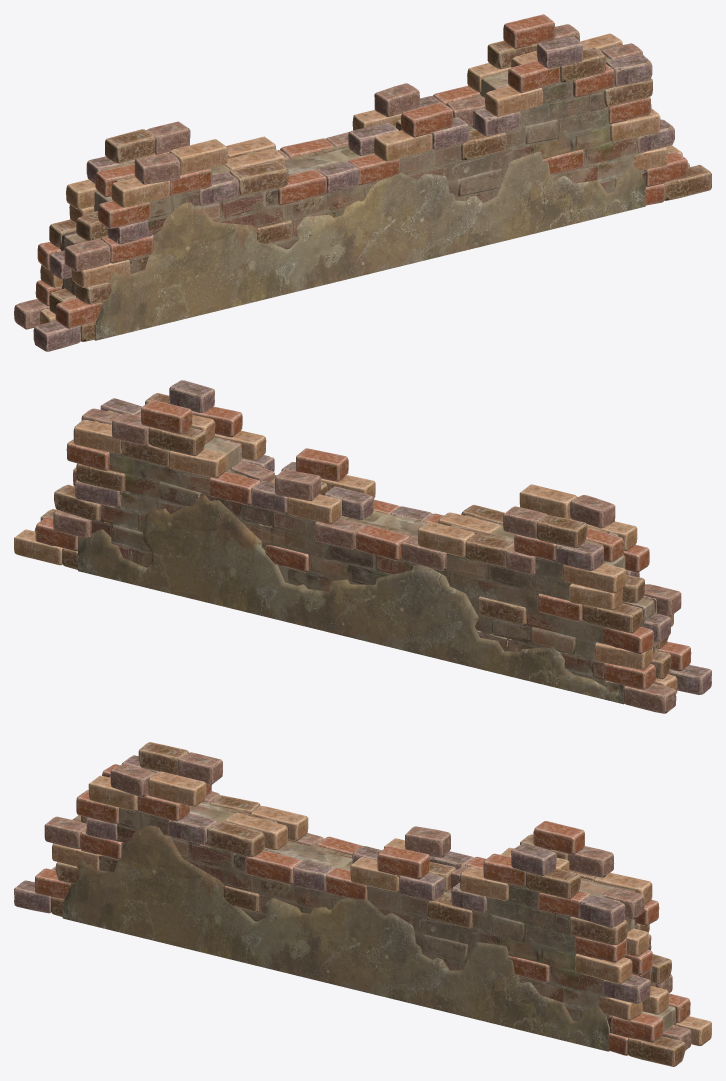
3 views of the same model, one above another, from view 1: azimuth 30°, elevation 25°; view 2: azimuth 150°, elevation 25°; view 3: azimuth 330°, elevation 25° (orthographic).
Visible parts, largest first — view 1: SM_Human_Ruins_LowWall_Dmg_04_LOD0; view 2: SM_Human_Ruins_LowWall_Dmg_04_LOD0; view 3: SM_Human_Ruins_LowWall_Dmg_04_LOD0.
Boxes of the visible parts, x1,y1,x2,y2 form: SM_Human_Ruins_LowWall_Dmg_04_LOD0: (14, 14, 711, 351); SM_Human_Ruins_LowWall_Dmg_04_LOD0: (14, 380, 711, 713); SM_Human_Ruins_LowWall_Dmg_04_LOD0: (14, 742, 711, 1066).
Size of the model in its own units: 4.85 by 1.25 by 0.5648.
3 materials, 3 textured.
